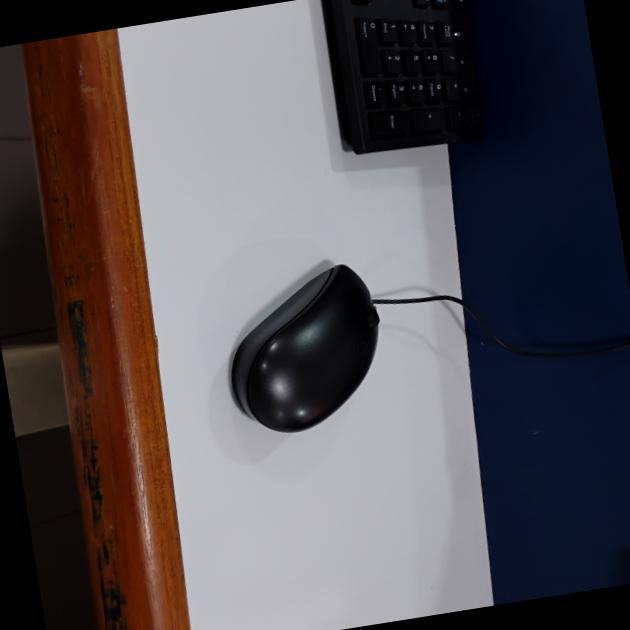keyboard: (287, 0, 508, 174)
mouse: (202, 252, 427, 444)
